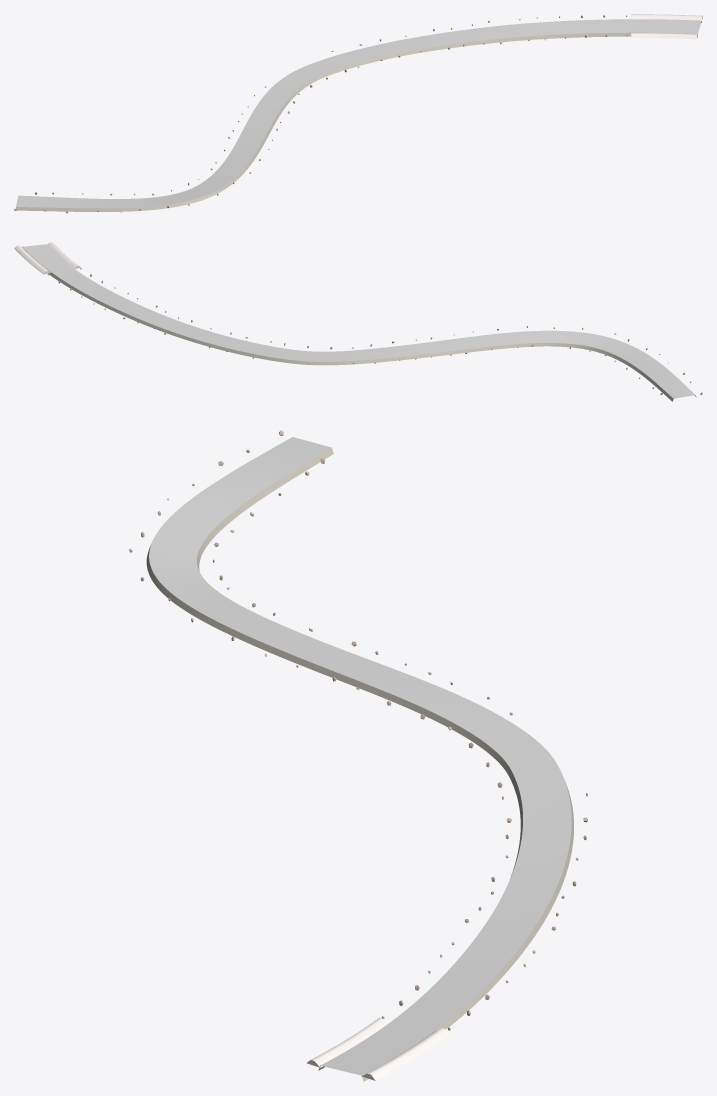
Rendered from SM_AlUla_Track_03.fbx.
The picture shows the model from 3 angles, top to bottom: view 1: azimuth 30°, elevation 25°; view 2: azimuth 150°, elevation 25°; view 3: azimuth 270°, elevation 25°; orthographic projection. The views are drawn at different scales.
Visible parts, largest first — view 1: SM_AlUla_Track_03; view 2: SM_AlUla_Track_03; view 3: SM_AlUla_Track_03.
Boxes of the visible parts, left/top/right/bottom form: SM_AlUla_Track_03: left=14, top=14, right=702, bottom=213; SM_AlUla_Track_03: left=14, top=242, right=702, bottom=401; SM_AlUla_Track_03: left=129, top=430, right=587, bottom=1081.
Size of the model in its own units: 38311 by 445 by 11455.
